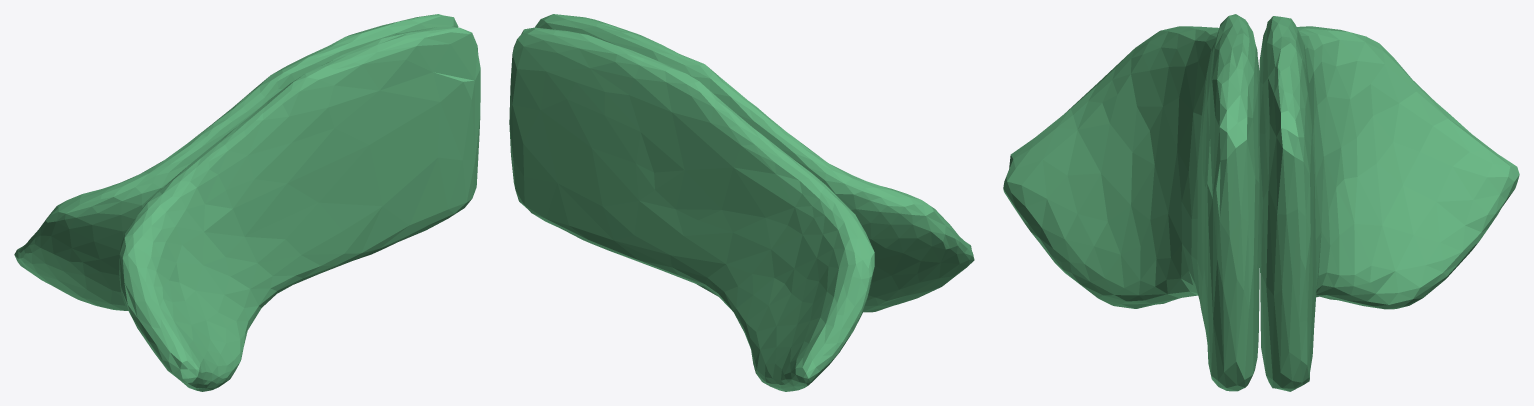
3 renders of one model, left to right at view 1: azimuth 30°, elevation 25°; view 2: azimuth 150°, elevation 25°; view 3: azimuth 270°, elevation 25°, orthographic. The views are drawn at different scales.
Visible parts, largest first — view 1: 171.obj; view 2: 171.obj; view 3: 171.obj.
Part boxes in pixels (<box>): 171.obj: <box>14,14,480,391</box>; 171.obj: <box>509,14,974,391</box>; 171.obj: <box>1003,14,1519,391</box>.
Bounding box in the file's own units: 1871 × 1217 × 1407.
